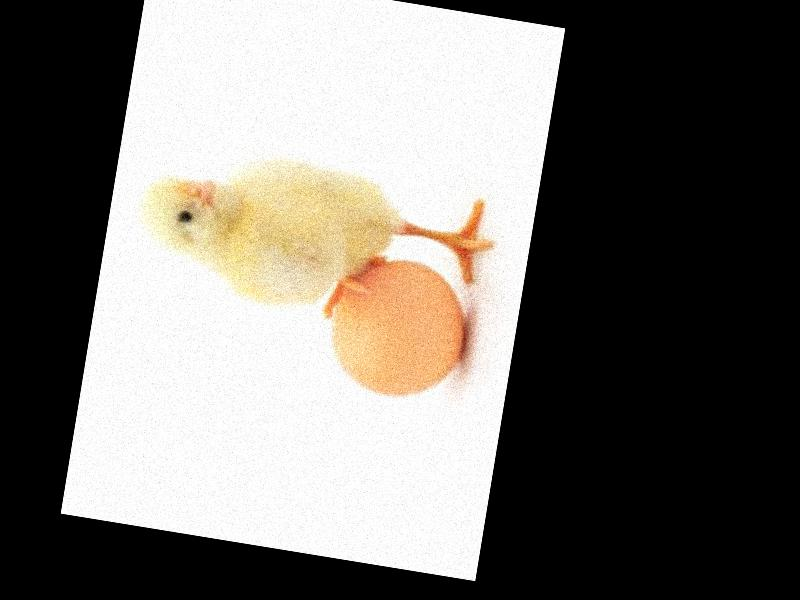Eggs: (315, 246, 474, 407)
